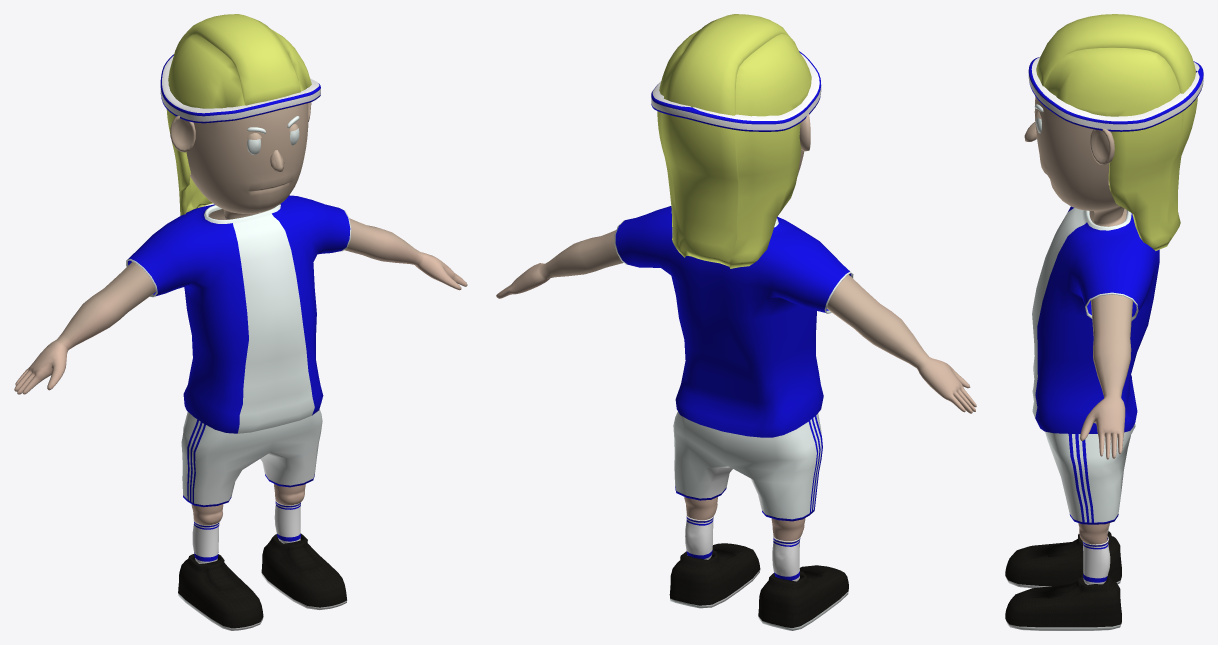
Rendered from Tenista.fbx.
The picture shows the model from 3 angles, left to right: view 1: azimuth 30°, elevation 25°; view 2: azimuth 150°, elevation 25°; view 3: azimuth 270°, elevation 25°; orthographic projection. The views are drawn at different scales.
Parts seen in each view (by area): view 1: Tenista.001; view 2: Tenista.001; view 3: Tenista.001.
Boxes of the visible parts, x1,y1,x2,y2 form: Tenista.001: [14, 14, 467, 630]; Tenista.001: [496, 14, 976, 630]; Tenista.001: [1005, 14, 1203, 630].
Bounding box in the file's own units: 97.98 × 116 × 36.07.
Materials: 8 (1 with a texture image).
